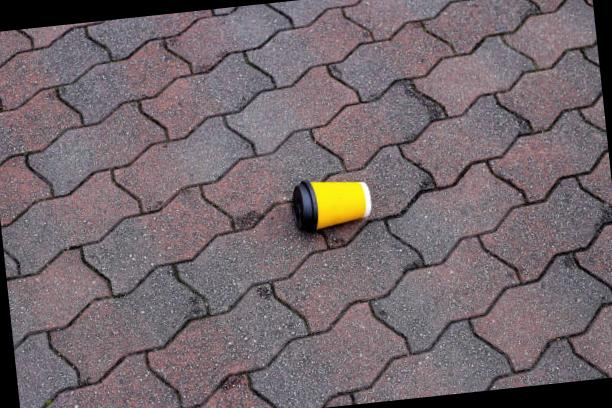trash: (282, 148, 402, 252)
